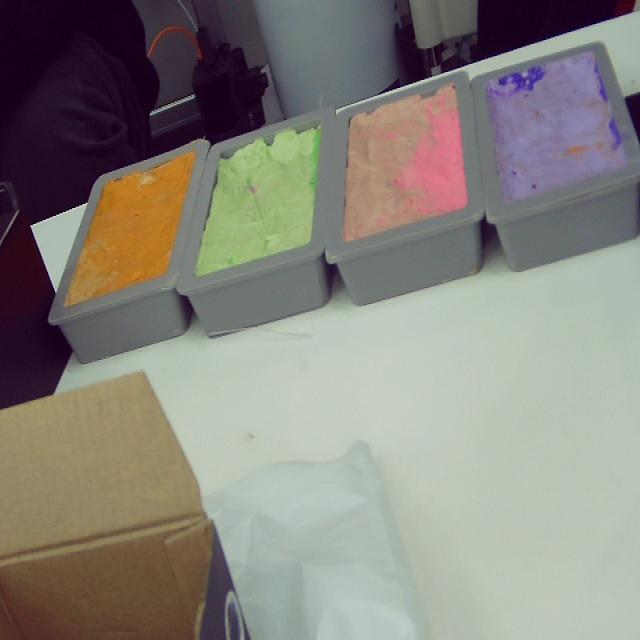block: (322, 69, 487, 307), (471, 38, 640, 270), (171, 106, 340, 337), (44, 141, 211, 362)
